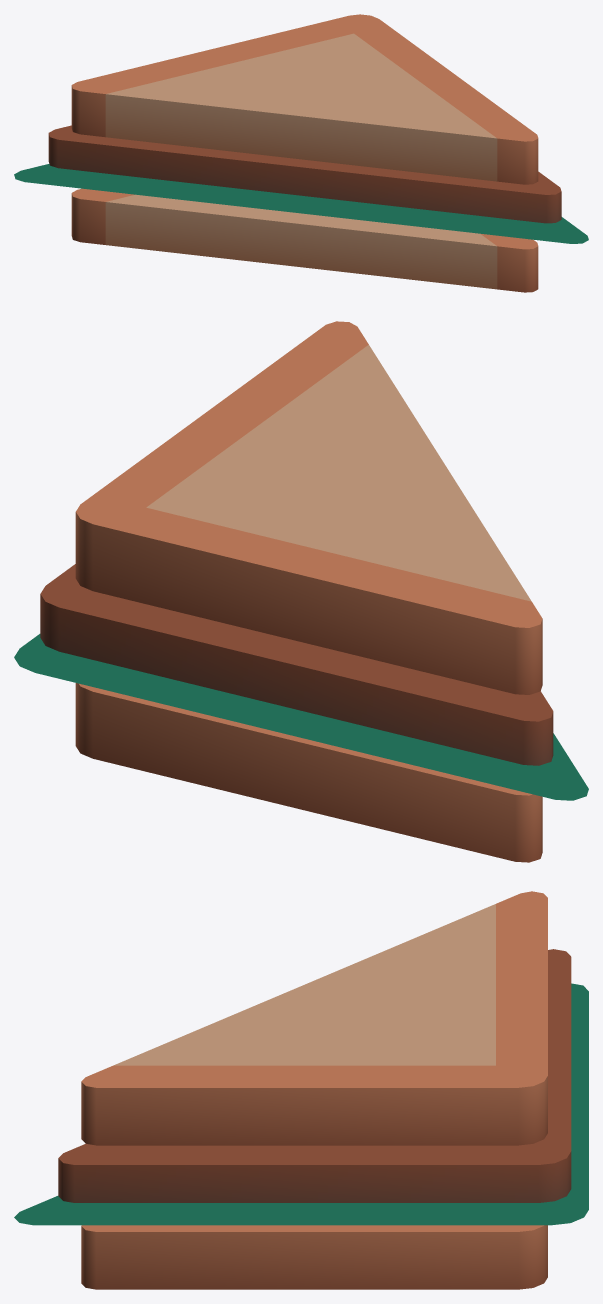
The model's file is sandwich.glb.
The picture shows the model from 3 angles, top to bottom: view 1: azimuth 30°, elevation 25°; view 2: azimuth 150°, elevation 25°; view 3: azimuth 270°, elevation 25°; orthographic projection. The views are drawn at different scales.
Parts seen in each view (by area): view 1: bun (×2), meat, lettuce; view 2: bun (×2), meat, lettuce; view 3: bun (×2), meat, lettuce.
Part boxes in pixels (<box>): bun (×2): <box>71,14,538,292</box>; meat: <box>48,125,561,223</box>; lettuce: <box>14,164,588,243</box>; bun (×2): <box>75,321,542,862</box>; meat: <box>40,564,553,765</box>; lettuce: <box>14,634,588,800</box>; bun (×2): <box>81,891,547,1289</box>; meat: <box>58,949,571,1202</box>; lettuce: <box>14,983,588,1225</box>.
Size of the model in its own units: 0.4323 by 0.168 by 0.4339.
